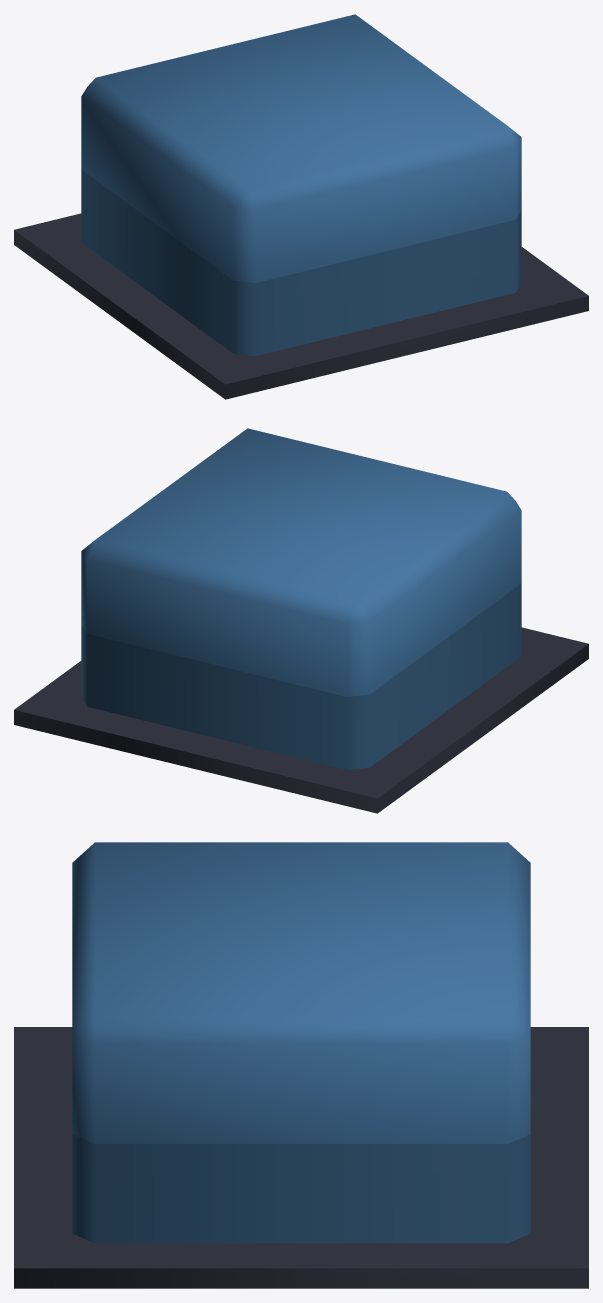
File: RoofAdd_2_D_5.fbx
3 views of the same model, one above another, from view 1: azimuth 30°, elevation 25°; view 2: azimuth 150°, elevation 25°; view 3: azimuth 270°, elevation 25° (orthographic). The views are drawn at different scales.
Parts seen in each view (by area): view 1: RoofAdd_2_D_5; view 2: RoofAdd_2_D_5; view 3: RoofAdd_2_D_5.
Part boxes in pixels (bbox=[...]): RoofAdd_2_D_5: bbox=[14, 14, 588, 399]; RoofAdd_2_D_5: bbox=[14, 428, 588, 813]; RoofAdd_2_D_5: bbox=[14, 842, 588, 1288].
Size of the model in its own units: 160 by 74.17 by 161.
